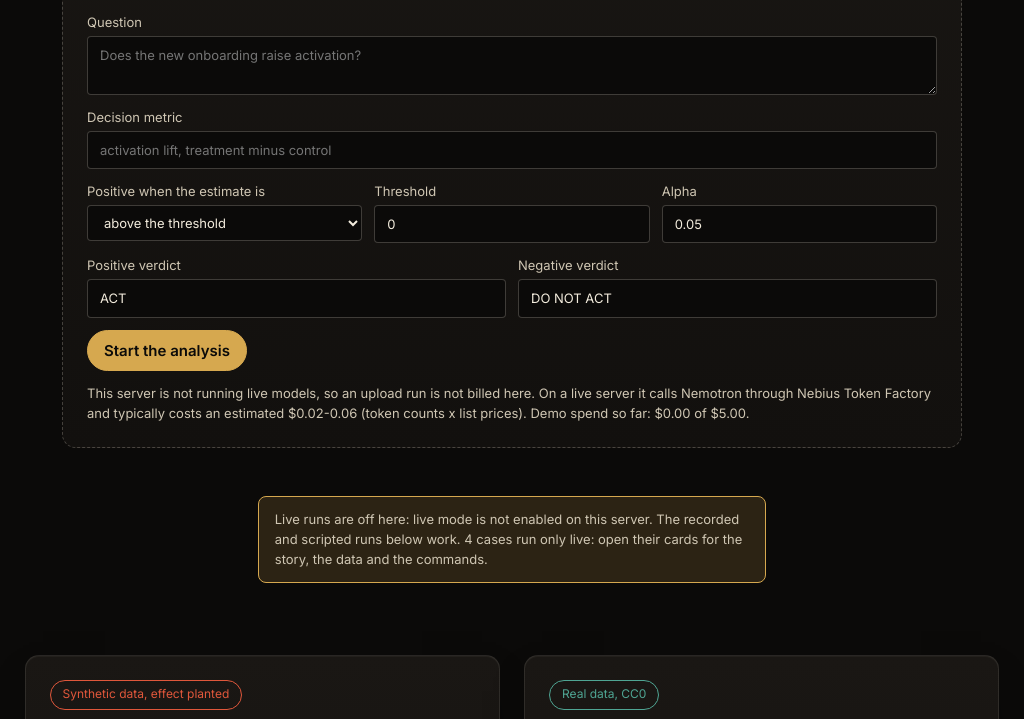
Test: Bring your own data card › asks for a file before uploading anything
(page scrolled)
Click the button "Start the analysis" at (167, 350), box 87,330 -> 247,371
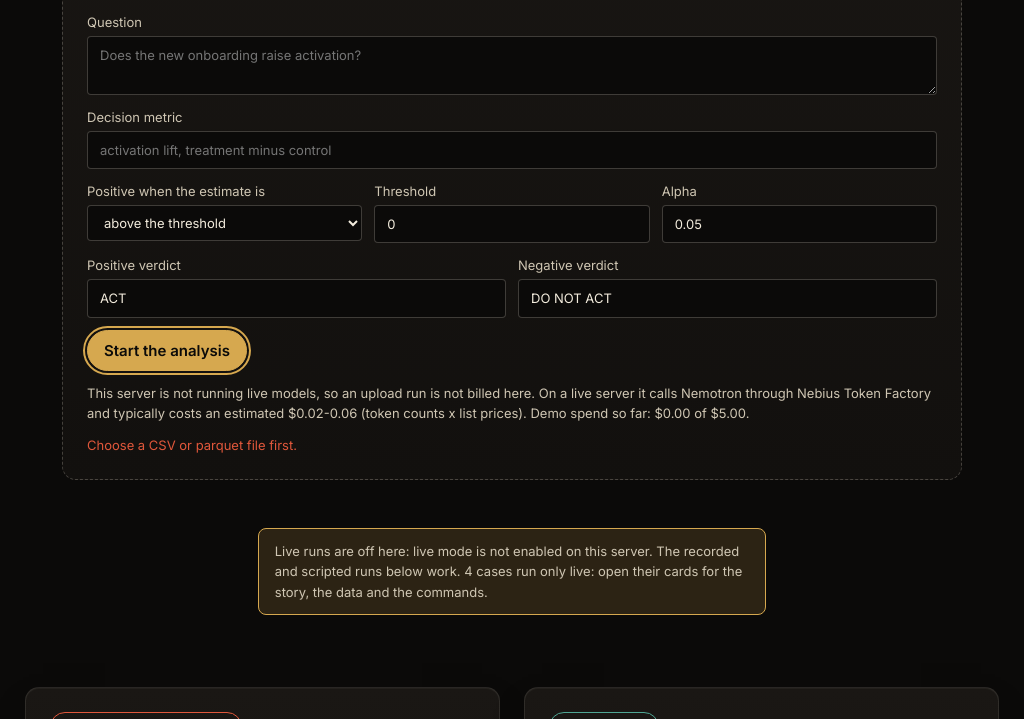
Now the message "Choose a CSV or parquet file first." is shown, box 87,437 -> 297,453
